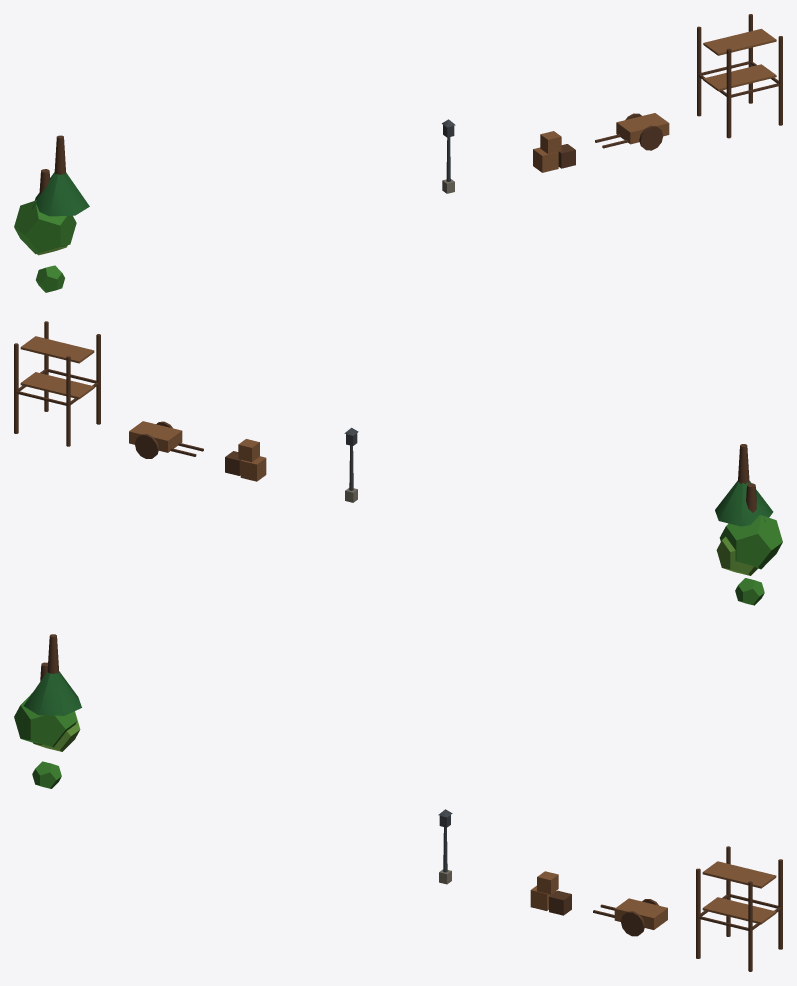
File: props.glb
3 renders of one model, top to bottom at view 1: azimuth 30°, elevation 25°; view 2: azimuth 150°, elevation 25°; view 3: azimuth 330°, elevation 25°, orthographic.
Parts seen in each view (by area): view 1: scaffold, tree_1, tree_2, cart, crates, bush, streetlamp; view 2: scaffold, tree_1, tree_2, cart, crates, tree_3, bush, streetlamp; view 3: scaffold, tree_2, tree_1, cart, crates, bush.
Boxes of the visible parts, x1=… form: scaffold: x1=697, y1=14, x2=782, y2=138; tree_1: x1=14, y1=169, x2=76, y2=254; tree_2: x1=32, y1=135, x2=89, y2=216; cart: x1=595, y1=113, x2=669, y2=150; crates: x1=533, y1=131, x2=575, y2=172; bush: x1=36, y1=265, x2=64, y2=292; streetlamp: x1=442, y1=119, x2=455, y2=193; scaffold: x1=14, y1=321, x2=100, y2=446; tree_1: x1=719, y1=483, x2=782, y2=569; tree_2: x1=715, y1=444, x2=773, y2=526; cart: x1=129, y1=421, x2=203, y2=458; crates: x1=225, y1=439, x2=266, y2=481; tree_3: x1=716, y1=536, x2=757, y2=575; bush: x1=735, y1=578, x2=764, y2=605; streetlamp: x1=344, y1=427, x2=358, y2=502; scaffold: x1=696, y1=846, x2=782, y2=971; tree_2: x1=23, y1=634, x2=81, y2=715; tree_1: x1=14, y1=662, x2=77, y2=747; cart: x1=593, y1=898, x2=667, y2=936; crates: x1=530, y1=871, x2=571, y2=915; bush: x1=32, y1=761, x2=61, y2=788.
Size of the model in its own units: 23.04 by 4.55 by 1.91.
